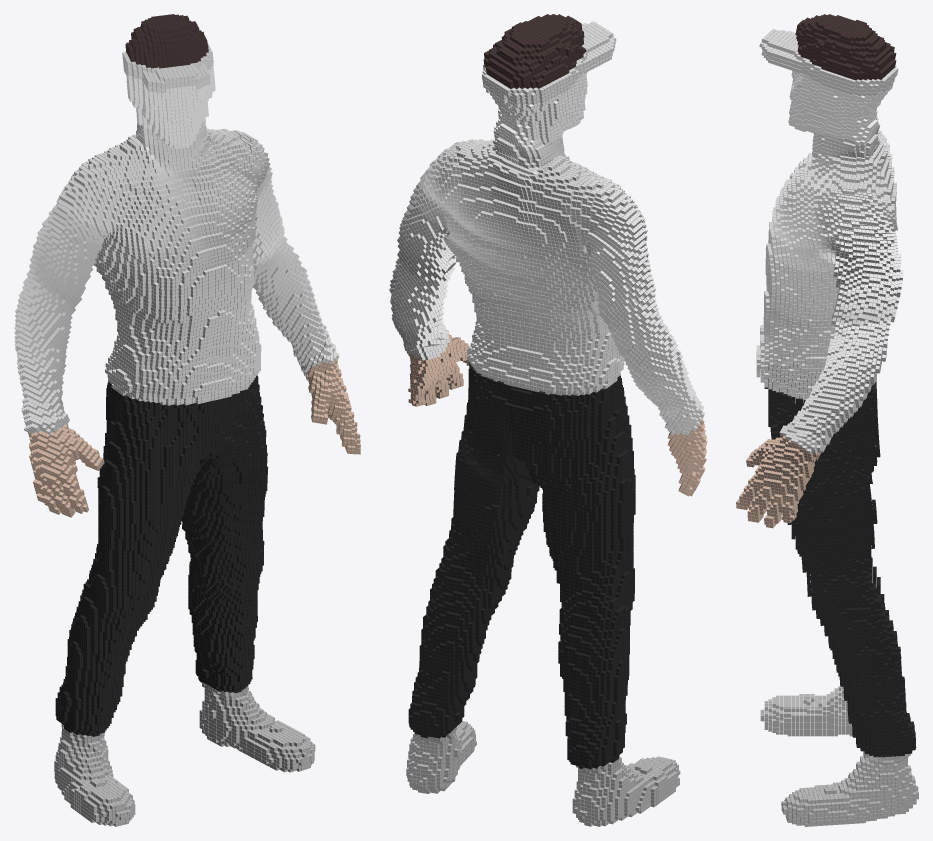
File: kepler.glb
The picture shows the model from 3 angles, left to right: view 1: azimuth 30°, elevation 25°; view 2: azimuth 150°, elevation 25°; view 3: azimuth 270°, elevation 25°; orthographic projection. The views are drawn at different scales.
Visible parts, largest first — view 1: Kepler_Body; view 2: Kepler_Body; view 3: Kepler_Body.
Boxes of the visible parts, left/top/right/bottom form: Kepler_Body: left=14, top=14, right=360, bottom=826; Kepler_Body: left=389, top=14, right=707, bottom=826; Kepler_Body: left=736, top=14, right=918, bottom=826.
Bounding box in the file's own units: 0.8985 × 2.12 × 0.4718.
